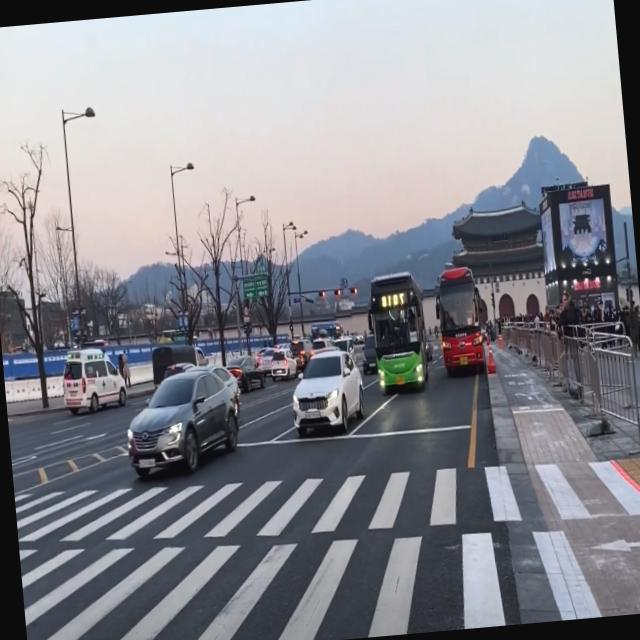bus-number: (380, 292, 404, 307)
